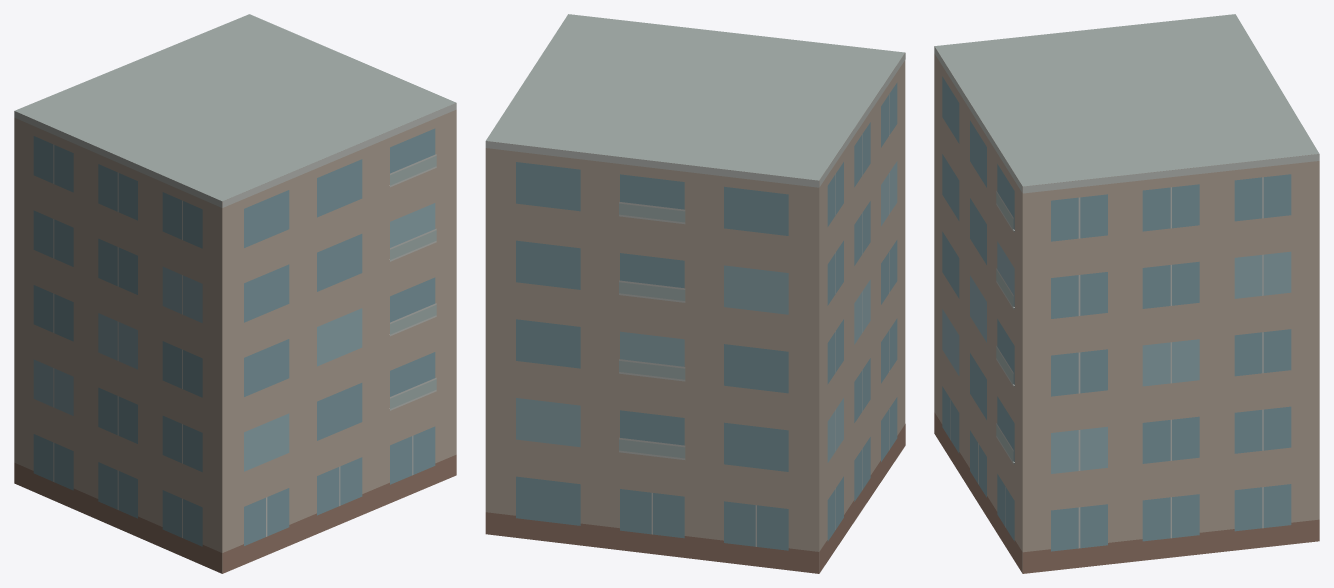
Rendered from survey-upis-32715353.glb.
The picture shows the model from 3 angles, left to right: view 1: azimuth 30°, elevation 25°; view 2: azimuth 150°, elevation 25°; view 3: azimuth 270°, elevation 25°; orthographic projection. The views are drawn at different scales.
Visible parts, largest first — view 1: survey-upis-32715353.tmp; view 2: survey-upis-32715353.tmp; view 3: survey-upis-32715353.tmp.
Boxes of the visible parts, bbox=[...] form: survey-upis-32715353.tmp: bbox=[14, 14, 456, 573]; survey-upis-32715353.tmp: bbox=[485, 14, 905, 573]; survey-upis-32715353.tmp: bbox=[934, 14, 1319, 573].
Size of the model in its own units: 12.93 by 13.52 by 12.2.
